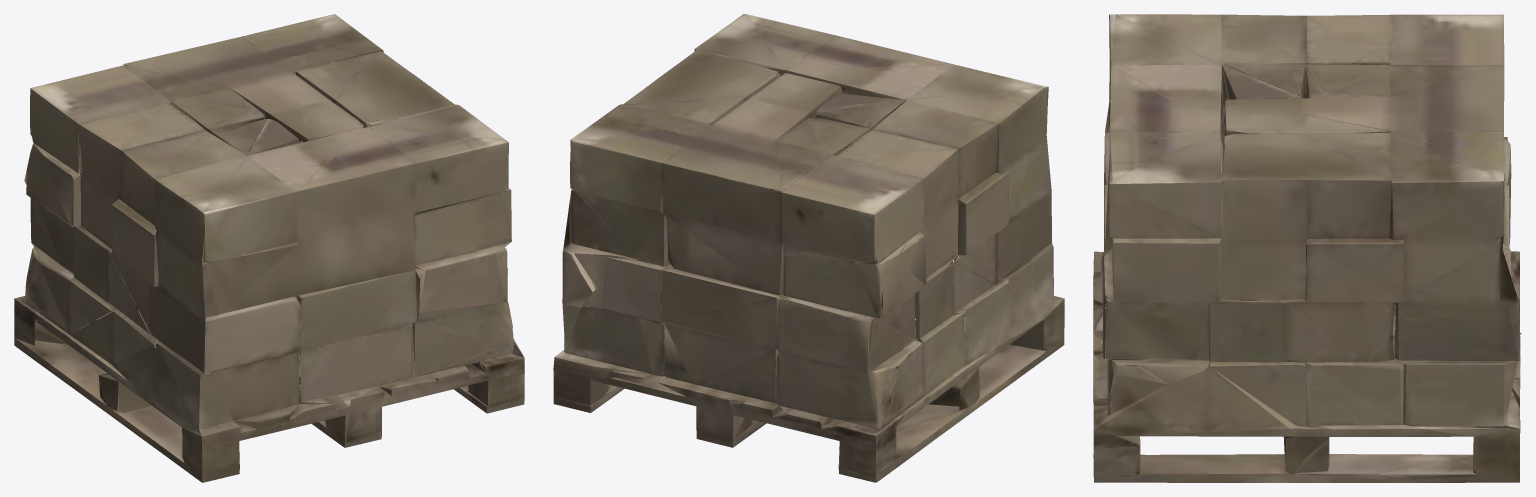
The model's file is pallet_boxes.glb.
3 views of the same model, side by side, from view 1: azimuth 30°, elevation 25°; view 2: azimuth 150°, elevation 25°; view 3: azimuth 270°, elevation 25° (orthographic). The views are drawn at different scales.
Visible parts, largest first — view 1: Mesh_0; view 2: Mesh_0; view 3: Mesh_0.
Part boxes in pixels (x1,y1,x2,y2): Mesh_0: (14,14,524,482); Mesh_0: (553,14,1064,482); Mesh_0: (1093,14,1521,482).
Bounding box in the file's own units: 1.88 × 1.46 × 1.91.
Materials: 1 (1 with a texture image).
